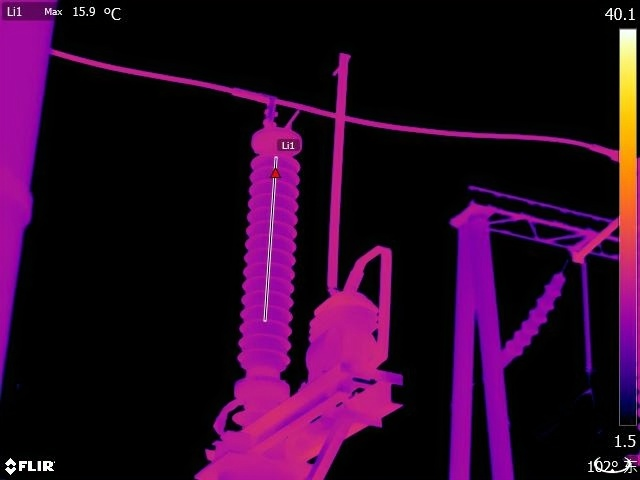insulator: (501, 263, 573, 370)
lightning arrester: (226, 124, 305, 380)
